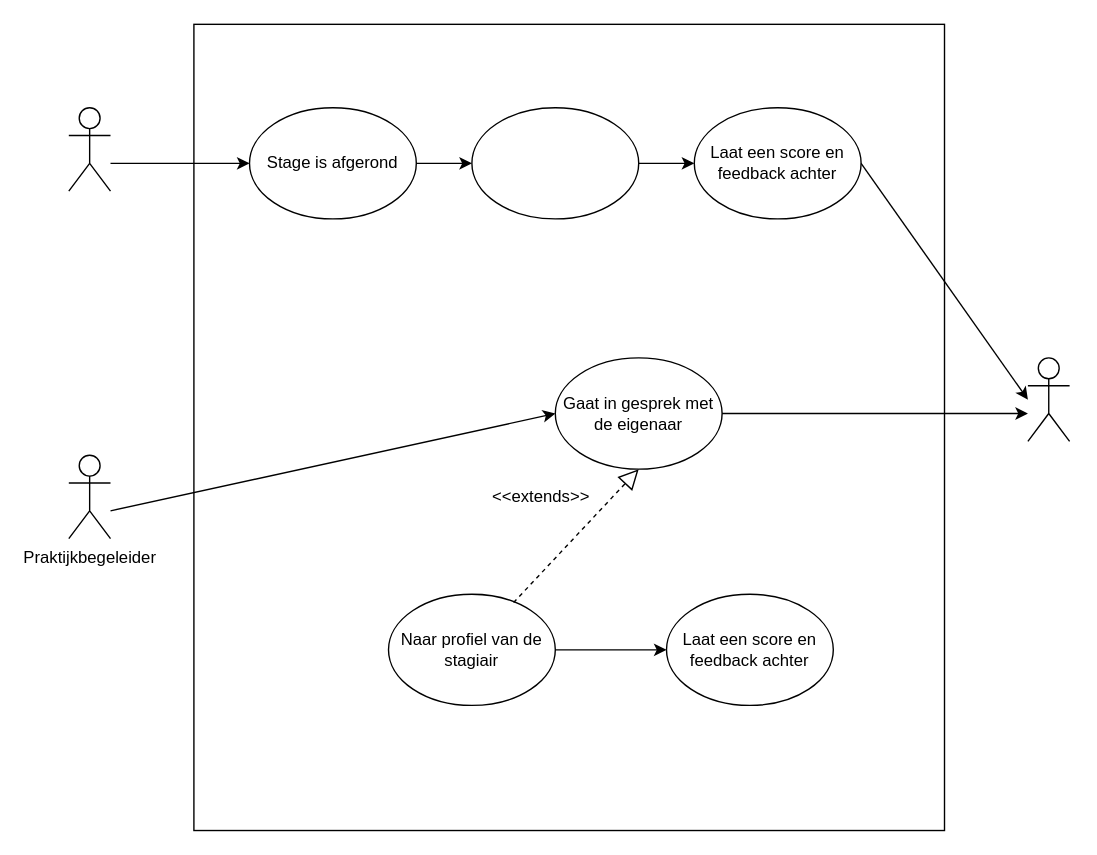
Some shapes in this 1097 by 855 pixel diagram are drawn without their labels. The centre of each missing label's shape, as x and y in pixels:
"Bedrijf" goes at (x=1048, y=399).
"Naar pagina van bedrijf waar stage is gelopen" goes at (x=555, y=162).
"Student/Stagiair" goes at (x=89, y=148).
